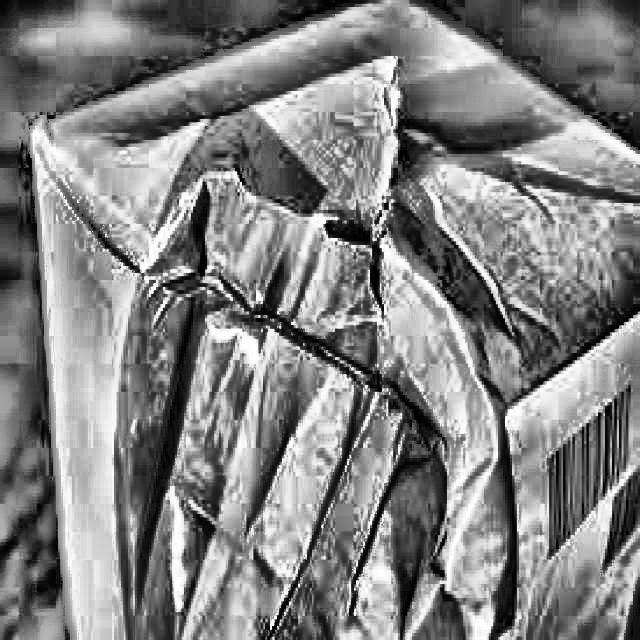box: (22, 0, 639, 639)
hole: (326, 148, 419, 314)
